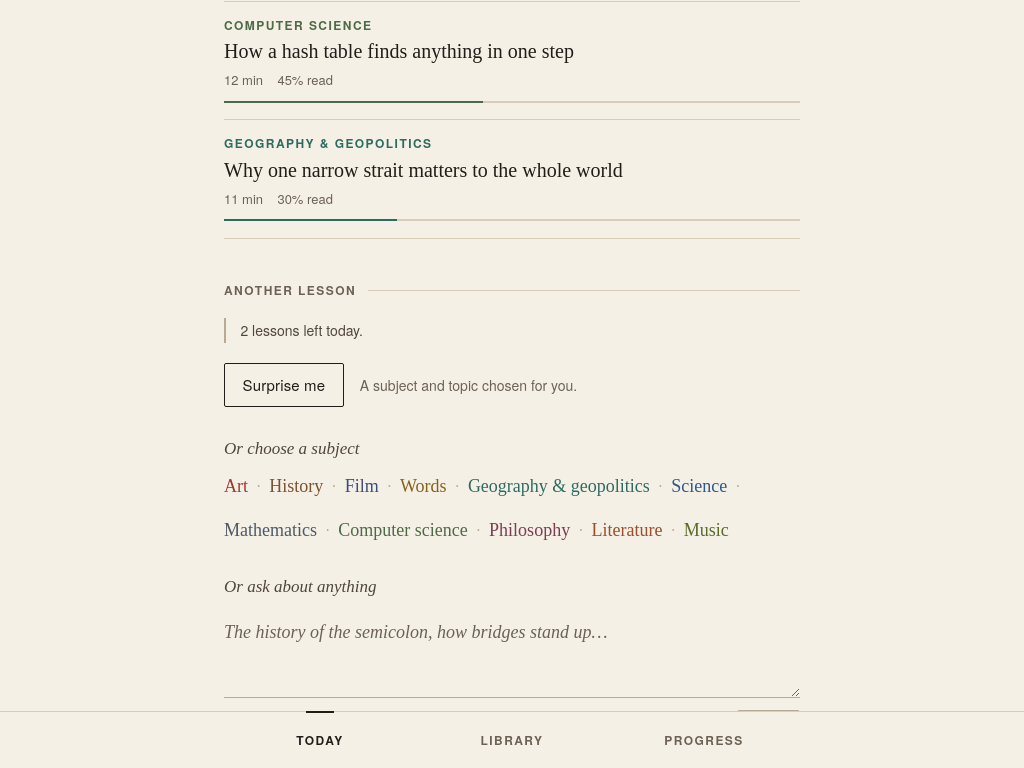
Test: Today › reports a refused request
(page scrolled)
Click the button "Surprise me": (284, 384) [224,362,344,406]
(page scrolled)
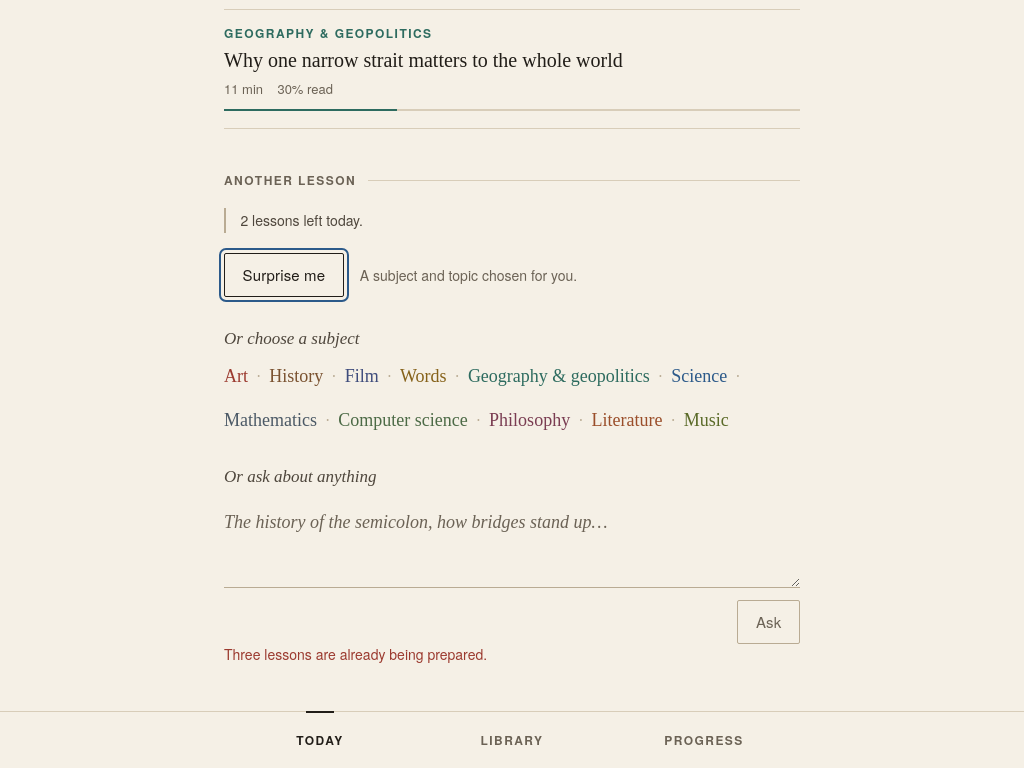
Check: the message reads "Three lessons are already being prepared.", box [224,644,487,664]
